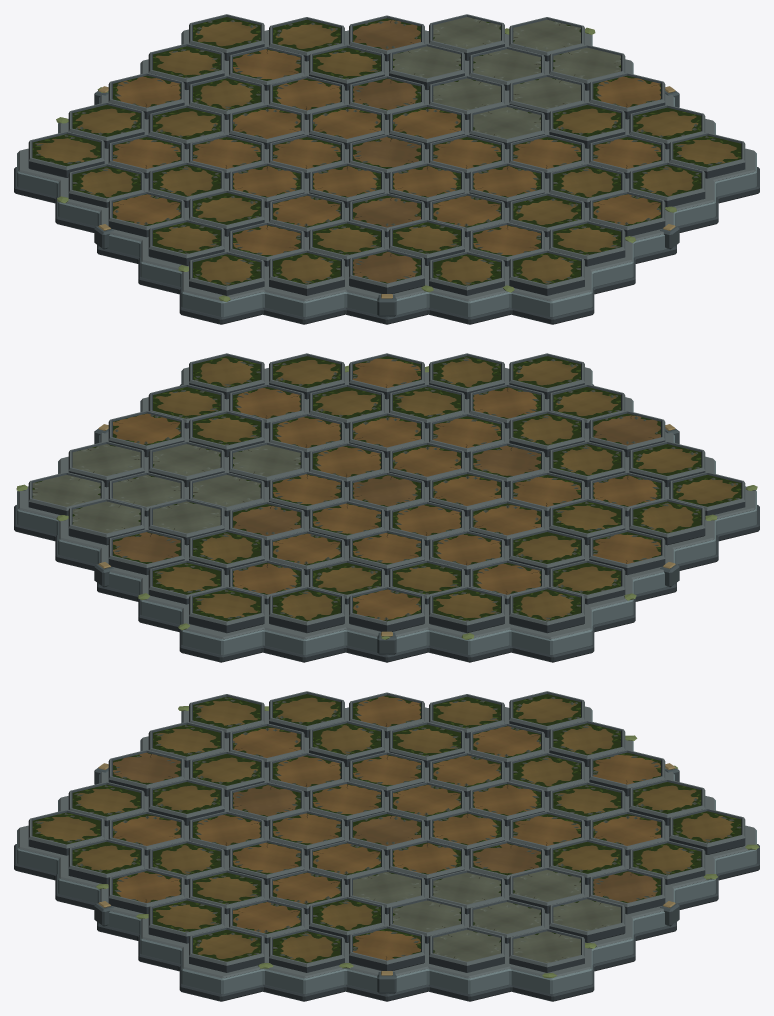
File: Arena_Tabuleiro.glb
The picture shows the model from 3 angles, top to bottom: view 1: azimuth 30°, elevation 25°; view 2: azimuth 150°, elevation 25°; view 3: azimuth 270°, elevation 25°; orthographic projection.
Parts seen in each view (by area): view 1: Arena_Foundation, Hex_q-2_r-2, Hex_q-3_r-1, Hex_q+0_r-4, Hex_q-4_r+4, Hex_q-4_r+1, Hex_q-1_r-3, Hex_q-4_r+0, Hex_q+1_r-4, Hex_q+4_r-4, Hex_q+3_r-4, Hex_q+2_r-4 (+51 smaller); view 2: Arena_Foundation, Hex_q-3_r+4, Hex_q-1_r+4, Hex_q-4_r+4, Hex_q+0_r+4, Hex_q-2_r+4, Hex_q-4_r+1, Hex_q+3_r+1, Hex_q-4_r+2, Hex_q+2_r+2, Hex_q-1_r-2, Hex_q-2_r-1 (+51 smaller); view 3: Arena_Foundation, Hex_q+4_r-2, Hex_q+4_r-1, Hex_q+4_r-4, Hex_q+0_r+4, Hex_q+3_r+1, Hex_q+4_r+0, Hex_q+4_r-3, Hex_q+0_r-4, Hex_q+3_r-4, Hex_q+1_r-4, Hex_q+2_r-4 (+51 smaller).
Part boxes in pixels (bbox=[...]): Arena_Foundation: bbox=[14, 29, 759, 324]; Hex_q-2_r-2: bbox=[349, 248, 424, 293]; Hex_q-3_r-1: bbox=[269, 250, 344, 295]; Hex_q+0_r-4: bbox=[509, 250, 584, 295]; Hex_q-4_r+4: bbox=[28, 131, 104, 177]; Hex_q-4_r+1: bbox=[148, 219, 224, 265]; Hex_q-1_r-3: bbox=[429, 251, 504, 295]; Hex_q-4_r+0: bbox=[189, 251, 264, 295]; Hex_q+1_r-4: bbox=[549, 220, 625, 266]; Hex_q+4_r-4: bbox=[669, 132, 745, 178]; Hex_q+3_r-4: bbox=[629, 162, 705, 207]; Hex_q+2_r-4: bbox=[589, 191, 665, 236]; Arena_Foundation: bbox=[14, 367, 759, 662]; Hex_q-3_r+4: bbox=[429, 586, 504, 633]; Hex_q-1_r+4: bbox=[269, 586, 344, 633]; Hex_q-4_r+4: bbox=[509, 586, 584, 633]; Hex_q+0_r+4: bbox=[189, 586, 264, 633]; Hex_q-2_r+4: bbox=[349, 586, 424, 631]; Hex_q-4_r+1: bbox=[629, 498, 705, 545]; Hex_q+3_r+1: bbox=[68, 498, 144, 545]; Hex_q-4_r+2: bbox=[589, 529, 665, 575]; Hex_q+2_r+2: bbox=[108, 529, 184, 575]; Hex_q-1_r-2: bbox=[509, 410, 584, 457]; Hex_q-2_r-1: bbox=[549, 441, 625, 487]; Arena_Foundation: bbox=[14, 706, 759, 1001]; Hex_q+4_r-2: bbox=[349, 925, 424, 970]; Hex_q+4_r-1: bbox=[429, 927, 504, 972]; Hex_q+4_r-4: bbox=[189, 927, 264, 972]; Hex_q+0_r+4: bbox=[669, 808, 745, 854]; Hex_q+3_r+1: bbox=[549, 896, 625, 942]; Hex_q+4_r+0: bbox=[509, 928, 584, 972]; Hex_q+4_r-3: bbox=[269, 928, 344, 972]; Hex_q+0_r-4: bbox=[28, 809, 104, 855]; Hex_q+3_r-4: bbox=[148, 897, 224, 943]; Hex_q+1_r-4: bbox=[68, 839, 144, 884]; Hex_q+2_r-4: bbox=[108, 868, 184, 913].
Bounding box in the file's own units: 14.45 × 0.85 × 16.13.
7 materials, 1 textured.
